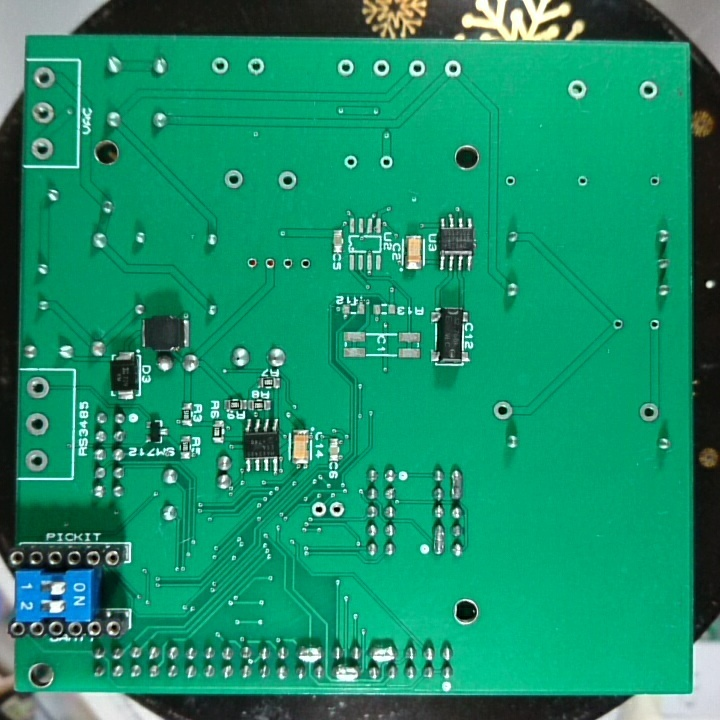F: (29, 98, 57, 126), (29, 135, 57, 163), (22, 446, 51, 473), (24, 375, 52, 402), (24, 411, 51, 439), (31, 64, 57, 90), (275, 168, 299, 194), (492, 398, 516, 423), (405, 56, 428, 82), (222, 166, 245, 192), (440, 58, 465, 81), (245, 54, 267, 79), (566, 78, 589, 101), (637, 400, 659, 424), (371, 57, 393, 81), (637, 79, 659, 102), (334, 56, 357, 78), (209, 55, 231, 78), (328, 499, 348, 522), (307, 499, 328, 520), (279, 251, 297, 275), (297, 252, 313, 276), (376, 152, 395, 172), (342, 152, 359, 174), (262, 254, 279, 274), (610, 315, 627, 334), (244, 255, 262, 272), (647, 316, 663, 334), (647, 172, 662, 190), (574, 172, 589, 190), (502, 172, 517, 189)
P: (365, 642, 397, 664), (294, 644, 324, 663), (431, 523, 447, 558), (449, 466, 464, 502), (333, 665, 361, 683)
